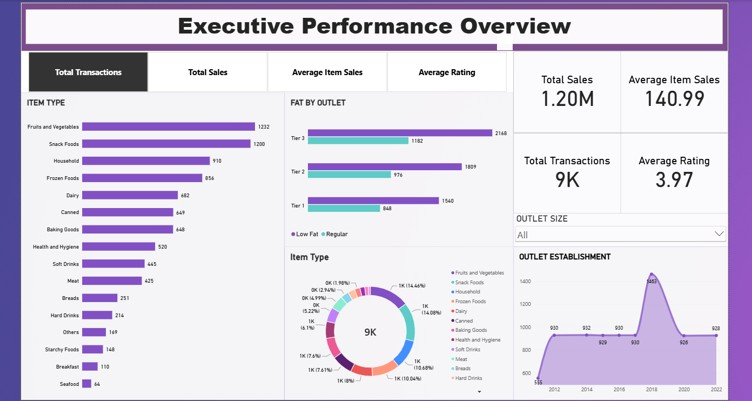

Layout of this report page (visuals, bound fields, positions):
{"tool":"powerbi","page":{"name":"Executive Performance Overview","canvas":[1920,1080],"ordinal":1},"visuals":[{"type":"shape","box":[0,0,1920.5,132.1],"z":0},{"type":"barChart","title":"ITEM TYPE","fields":{"Category":["zepto_grocery_table.item_type"],"Y":["zepto_grocery_table.Total Transactions"]},"box":[0,244,715.4,836.4],"z":1000},{"type":"clusteredBarChart","title":"FAT BY OUTLET","fields":{"Category":["zepto_grocery_table.outlet_location_type"],"Series":["zepto_grocery_table.item_fat_content"],"Y":["zepto_grocery_table.Total Transactions"]},"box":[715.4,244,621.8,418.2],"z":2000},{"type":"slicer","fields":{"Values":["Metric.Metric"]},"box":[0,132.1,1337.2,111.9],"z":3000},{"type":"lineChart","title":"OUTLET ESTABLISHMENT","fields":{"Category":["zepto_grocery_table.outlet_establishment_year"],"Y":["zepto_grocery_table.Total Transactions"]},"box":[1337.2,662.2,583.3,418.2],"z":4000},{"type":"cardVisual","fields":{"Data":["zepto_grocery_table.Total Sales","zepto_grocery_table.Average Item Sales"]},"box":[1337.2,132.1,583.3,221.9],"z":5000},{"type":"cardVisual","fields":{"Data":["zepto_grocery_table.Total Transactions","zepto_grocery_table.Average Rating"]},"box":[1337.2,354,583.3,218.3],"z":5001},{"type":"slicer","fields":{"Values":["zepto_grocery_table.outlet_size","zepto_grocery_table.outlet_location_type","zepto_grocery_table.outlet_type"]},"box":[1337.2,572.3,583.3,89.9],"z":5002},{"type":"textbox","box":[12.8,18.3,1892.9,93.5],"z":5003},{"type":"donutChart","title":"Item Type","fields":{"Category":["zepto_grocery_table.item_type"],"Y":["zepto_grocery_table.Total Transactions"]},"box":[715.4,662.2,621.8,418.2],"z":5004}]}

Visuals, with their boxes on the page's 1920x1080 design canvas (x1, y1, x2, y2). These are canvas units, not pixel positions in the 752x401 screenshot, which may show the page scaled, cropped or inside an application window:
shape: {"left": 0, "top": 0, "right": 1920, "bottom": 132}
"ITEM TYPE" barChart: {"left": 0, "top": 244, "right": 715, "bottom": 1080}
"FAT BY OUTLET" clusteredBarChart: {"left": 715, "top": 244, "right": 1337, "bottom": 662}
slicer - Metric.Metric: {"left": 0, "top": 132, "right": 1337, "bottom": 244}
"OUTLET ESTABLISHMENT" lineChart: {"left": 1337, "top": 662, "right": 1920, "bottom": 1080}
cardVisual - zepto_grocery_table.Total Sales x zepto_grocery_table.Average Item Sales: {"left": 1337, "top": 132, "right": 1920, "bottom": 354}
cardVisual - zepto_grocery_table.Total Transactions x zepto_grocery_table.Average Rating: {"left": 1337, "top": 354, "right": 1920, "bottom": 572}
slicer - zepto_grocery_table.outlet_size x zepto_grocery_table.outlet_location_type: {"left": 1337, "top": 572, "right": 1920, "bottom": 662}
textbox: {"left": 13, "top": 18, "right": 1906, "bottom": 112}
"Item Type" donutChart: {"left": 715, "top": 662, "right": 1337, "bottom": 1080}
